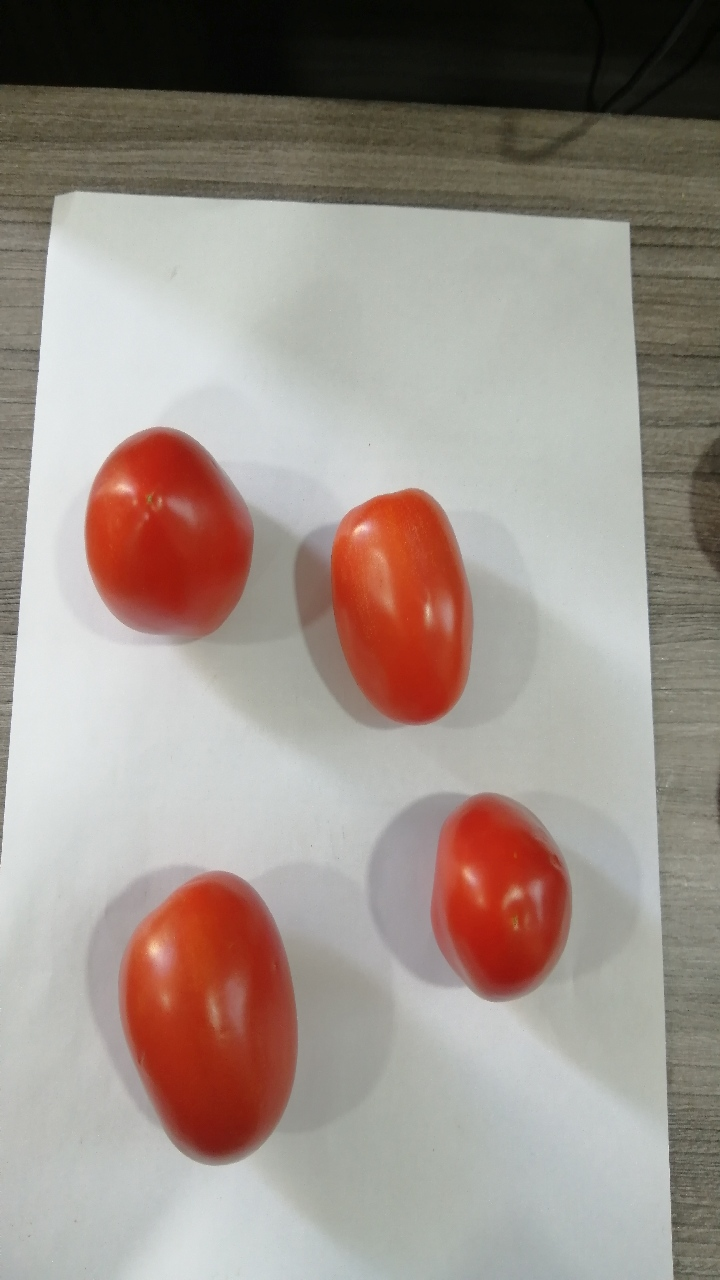tomateRojo: (95, 852, 320, 1191), (71, 402, 289, 677), (306, 463, 514, 743), (406, 772, 595, 1019)
